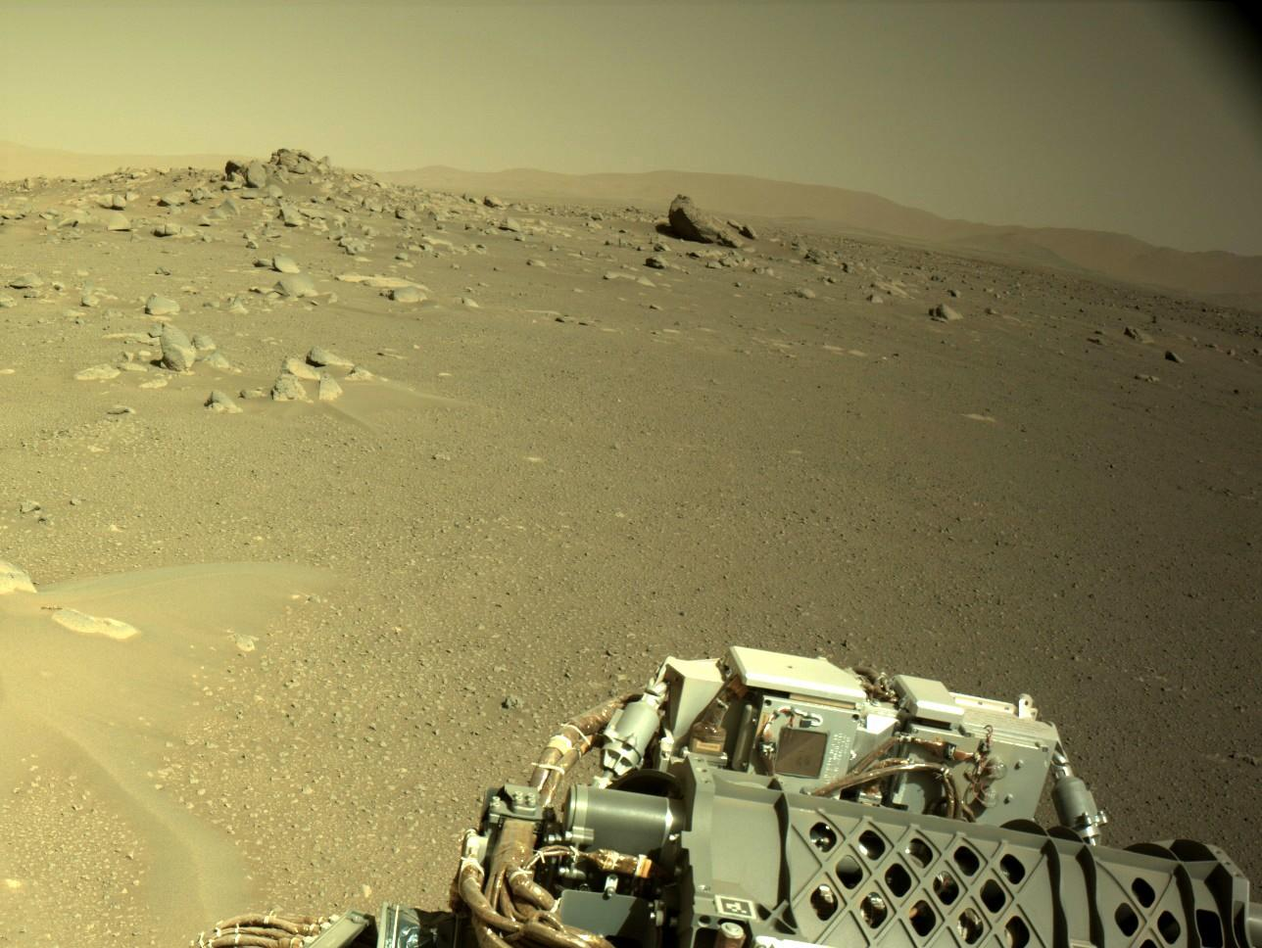bedrock: (866, 248, 1259, 320), (1, 183, 189, 268), (801, 253, 953, 319), (3, 277, 58, 438), (316, 252, 398, 266), (1, 554, 18, 595), (99, 367, 137, 385), (210, 246, 273, 254), (199, 924, 236, 935), (254, 917, 264, 932), (134, 351, 144, 357), (169, 934, 180, 936), (23, 181, 36, 182)
big_rock: (37, 138, 840, 258), (32, 216, 204, 244), (375, 236, 530, 256), (194, 398, 230, 405), (168, 327, 182, 332), (136, 348, 137, 349)
sand: (2, 562, 323, 944), (238, 933, 253, 946), (222, 918, 243, 924)
soil: (5, 262, 1260, 945), (18, 781, 143, 937), (578, 224, 639, 245), (13, 939, 128, 947), (827, 244, 861, 249), (9, 231, 12, 276), (6, 326, 7, 381), (181, 402, 188, 405)
